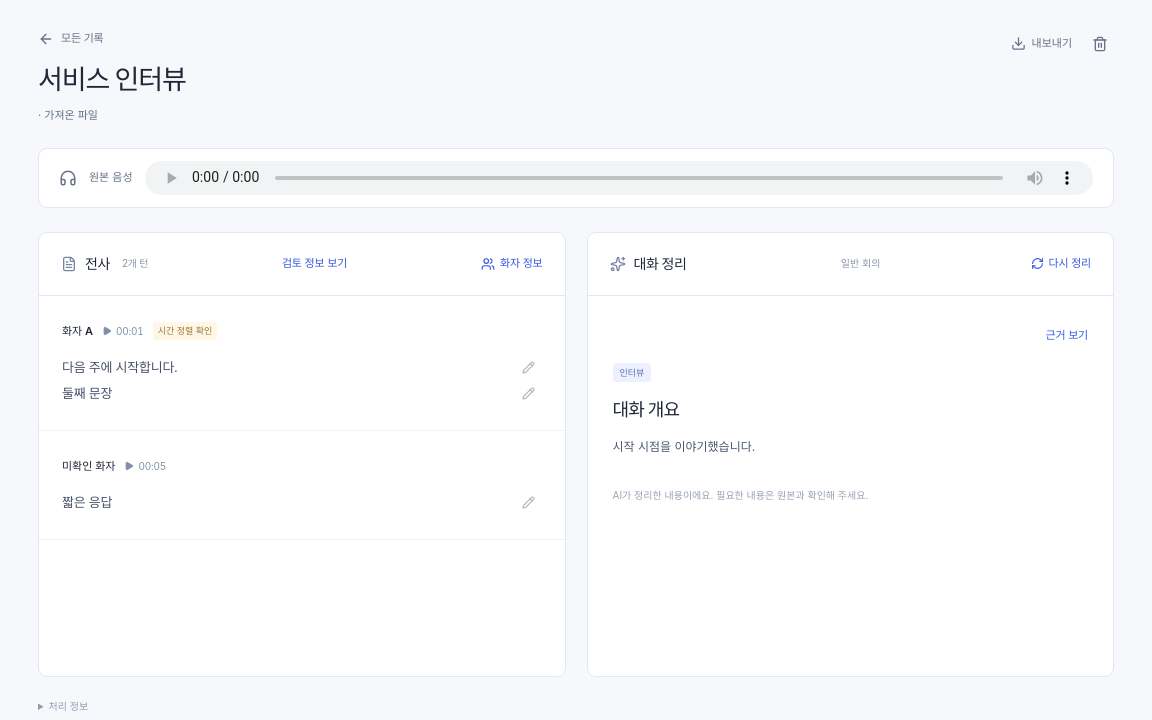
Test case: keeps review reasons optional and avoids duplicate unknown-speaker warnings
The image size is (1152, 720).
Check: the text "미확인 화자" is shown, box left=62, top=458, right=115, bottom=475
Check: the number of elements with class "review-flag" is 1, box left=153, top=322, right=217, bottom=340
Click the button "검토 정보 보기" at (314, 264), box left=282, top=251, right=347, bottom=276
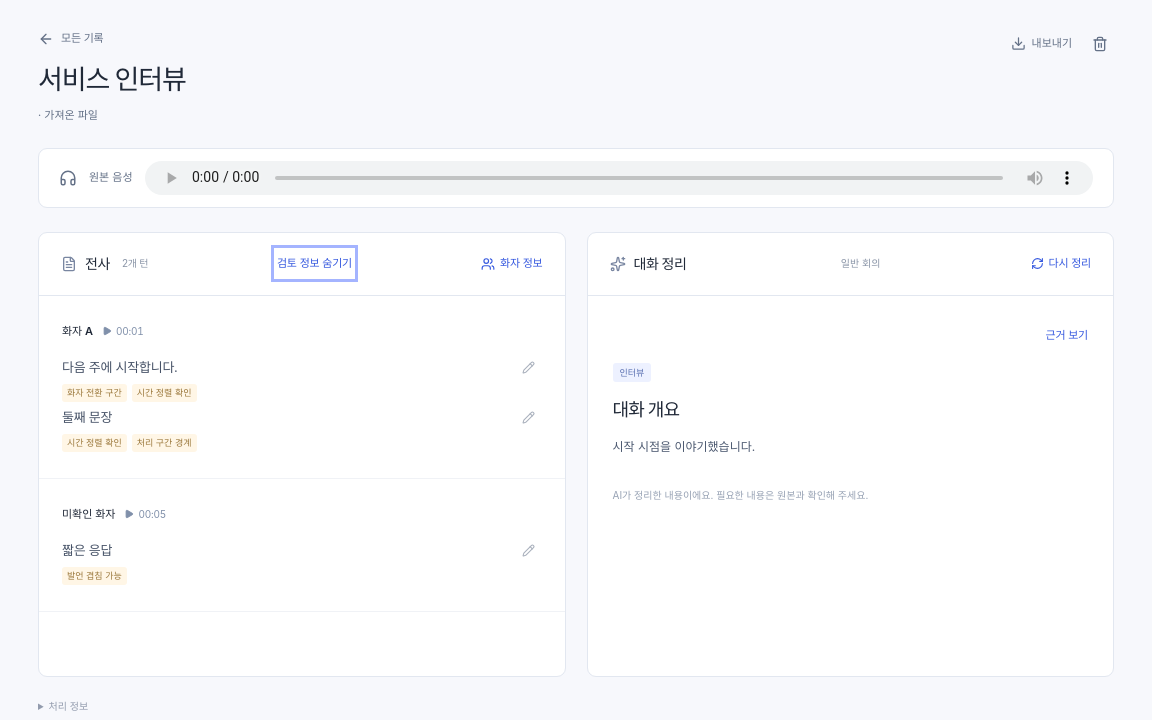
Check: the text "화자 전환 구간" is shown, box left=62, top=384, right=127, bottom=402
Check: the text "발언 겹침 가능" is shown, box left=62, top=567, right=127, bottom=585
Click the button "검토 정보 숨기기" at (315, 264), box left=277, top=251, right=352, bottom=276
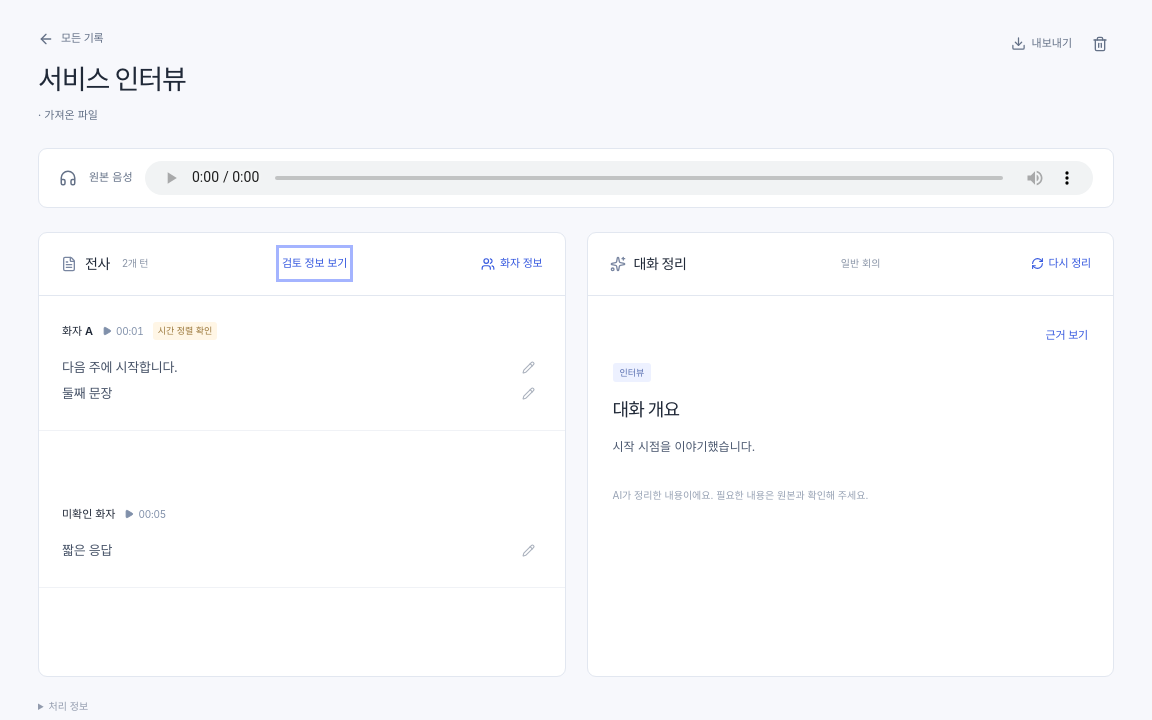
Check: the number of elements with class "review-flag" is 1, box left=153, top=322, right=217, bottom=340
